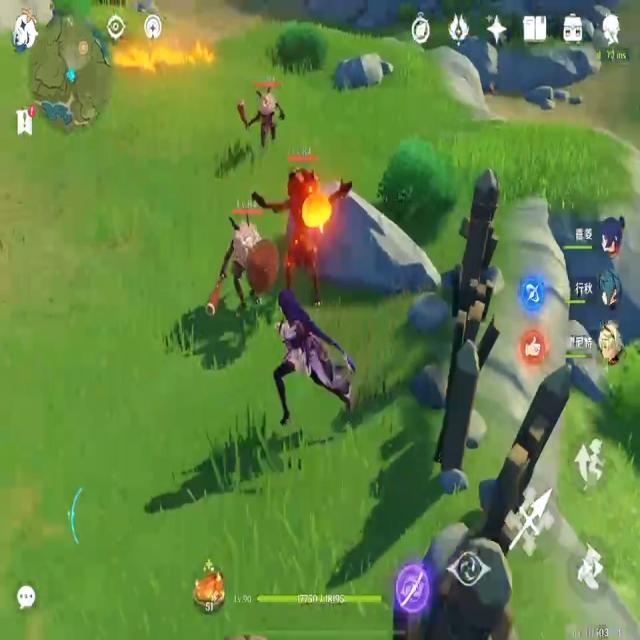genshin-hilichurls: (286, 164, 332, 298), (213, 207, 263, 315), (238, 66, 284, 153)
